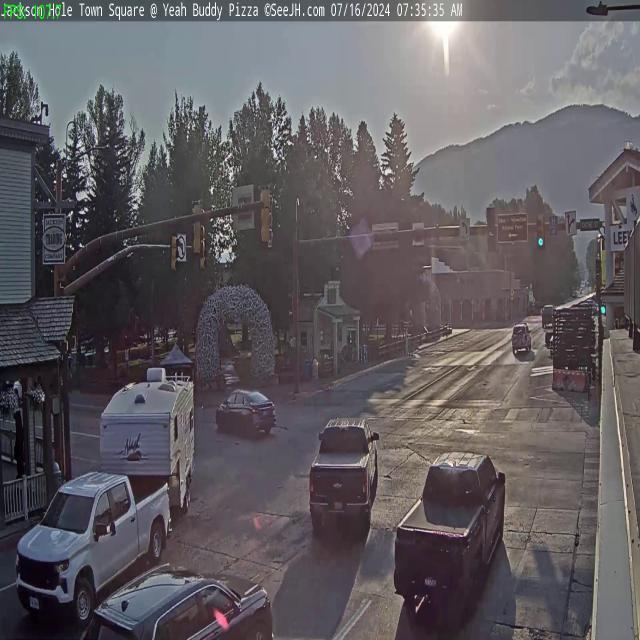pickup: (390, 448, 516, 640), (9, 465, 172, 608), (306, 412, 377, 542)
sedan: (214, 388, 276, 439)
suv: (75, 558, 275, 640), (510, 322, 530, 352)
traffic light: (260, 185, 273, 245), (190, 199, 203, 257), (486, 208, 497, 254), (170, 234, 179, 273), (536, 214, 546, 248)
